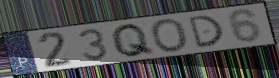2: (36, 31, 74, 70)
3: (74, 27, 110, 62)
6: (227, 7, 266, 45)
D: (186, 14, 225, 50)
O: (149, 17, 191, 54)
Q: (109, 22, 158, 59)
